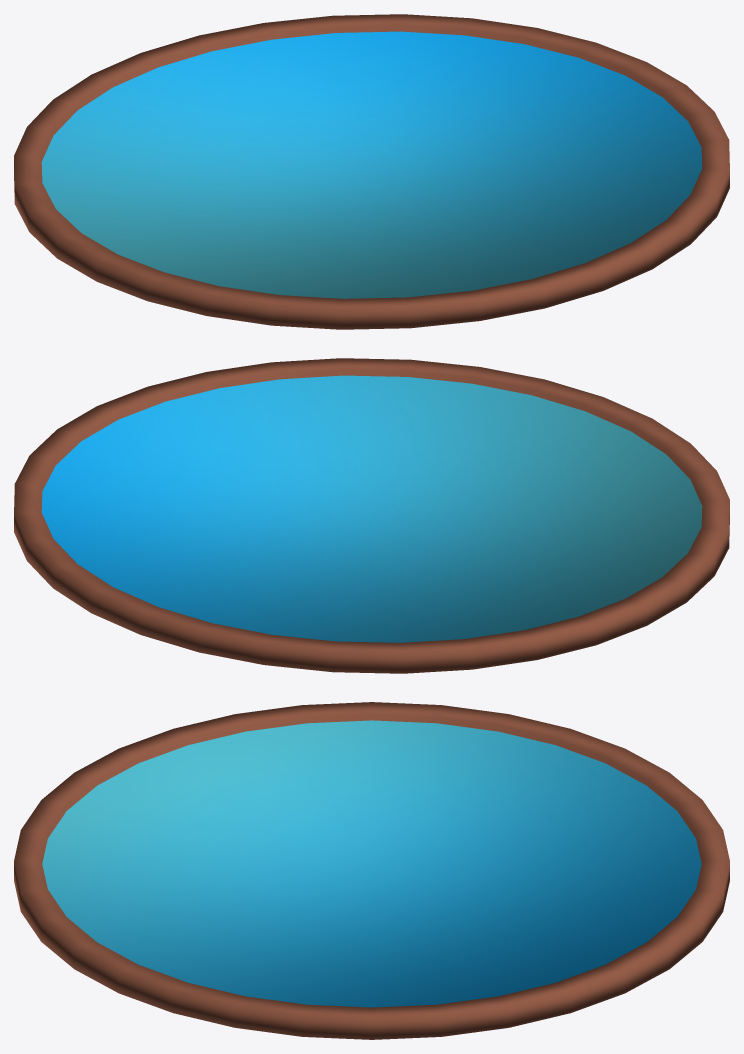
Rendered from puddle.fbx.
The picture shows the model from 3 angles, top to bottom: view 1: azimuth 30°, elevation 25°; view 2: azimuth 150°, elevation 25°; view 3: azimuth 270°, elevation 25°; orthographic projection. The views are drawn at different scales.
Visible parts, largest first — view 1: Circle; view 2: Circle; view 3: Circle.
Boxes of the visible parts, box(x1,y1,x2,y2) form: Circle: box(14, 14, 729, 329); Circle: box(14, 358, 729, 673); Circle: box(14, 702, 729, 1039).
Bounding box in the file's own units: 5727 × 169 × 5454.
